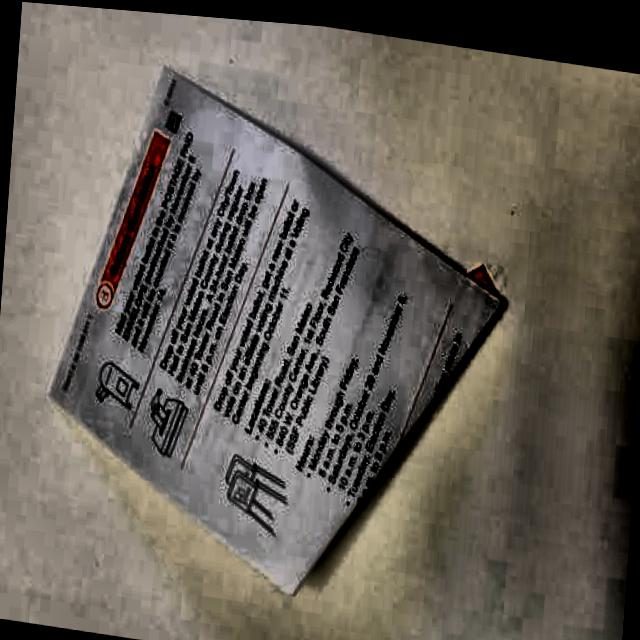Paper: (33, 37, 524, 637)
